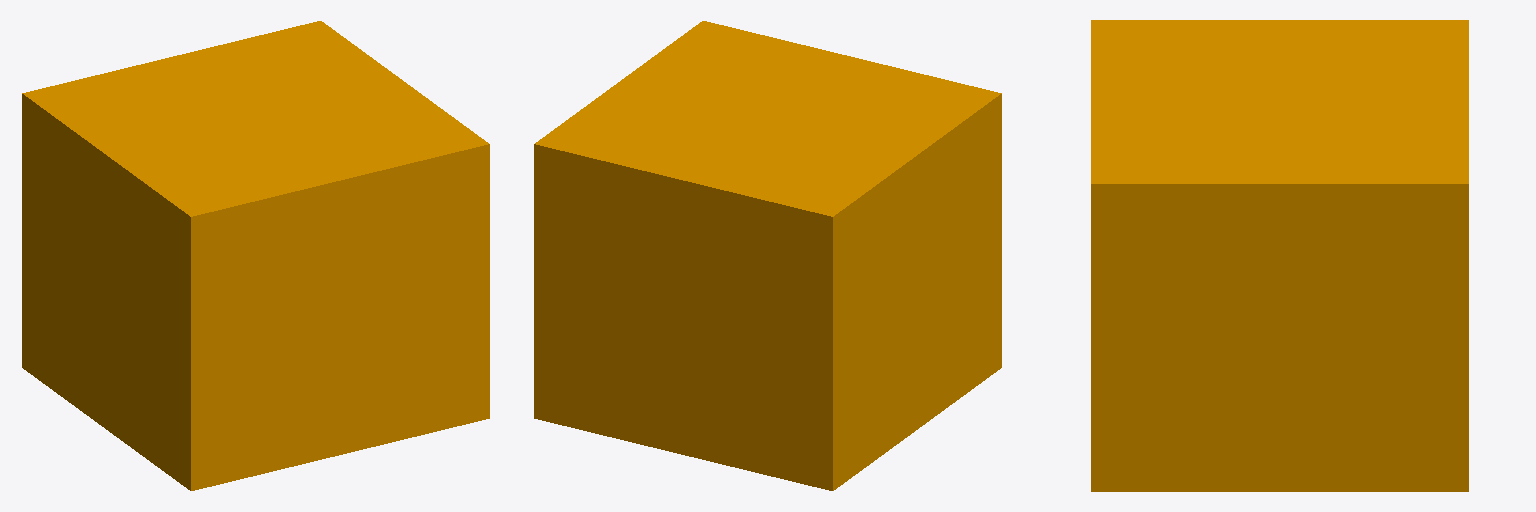
robot.urdf — object:
<?xml version="1.0"?>
<!-- Auto-generated by tools/gen_primitive_objects.py. kind=box dims=(0.071947, 0.070418, 0.063162) -->
<robot name="object">
  <link name="object">
    <visual>
      <origin xyz="0 0 0"/>
      <geometry>
        <box size="0.071947 0.070418 0.063162"/>
      </geometry>
    </visual>
    <collision>
      <origin xyz="0 0 0"/>
      <geometry>
        <box size="0.071947 0.070418 0.063162"/>
      </geometry>
    </collision>
    <inertial>
      <mass value="0.064000"/>
      <inertia ixx="0.00004772" ixy="0.0" ixz="0.0" iyy="0.00004888" iyz="0.0" izz="0.00005405"/>
    </inertial>
  </link>
</robot>

--- Render facts (derived) ---
The picture shows the robot from 3 angles, left to right: view 1: azimuth 30°, elevation 25°; view 2: azimuth 150°, elevation 25°; view 3: azimuth 270°, elevation 25°; orthographic projection.
Model object with 1 links and 0 joints (none), rooted at object, posed every joint at zero.
Links seen in each view (by area): view 1: object; view 2: object; view 3: object.
Boxes of the visible links, bbox=[...] form: object: bbox=[22, 21, 489, 490]; object: bbox=[534, 21, 1001, 490]; object: bbox=[1091, 20, 1468, 491].
Bounding box of the posed robot: 0.0719 × 0.0704 × 0.0632 m (x, y, z).
Geometry: primitives only (box / cylinder / sphere), no mesh files.
